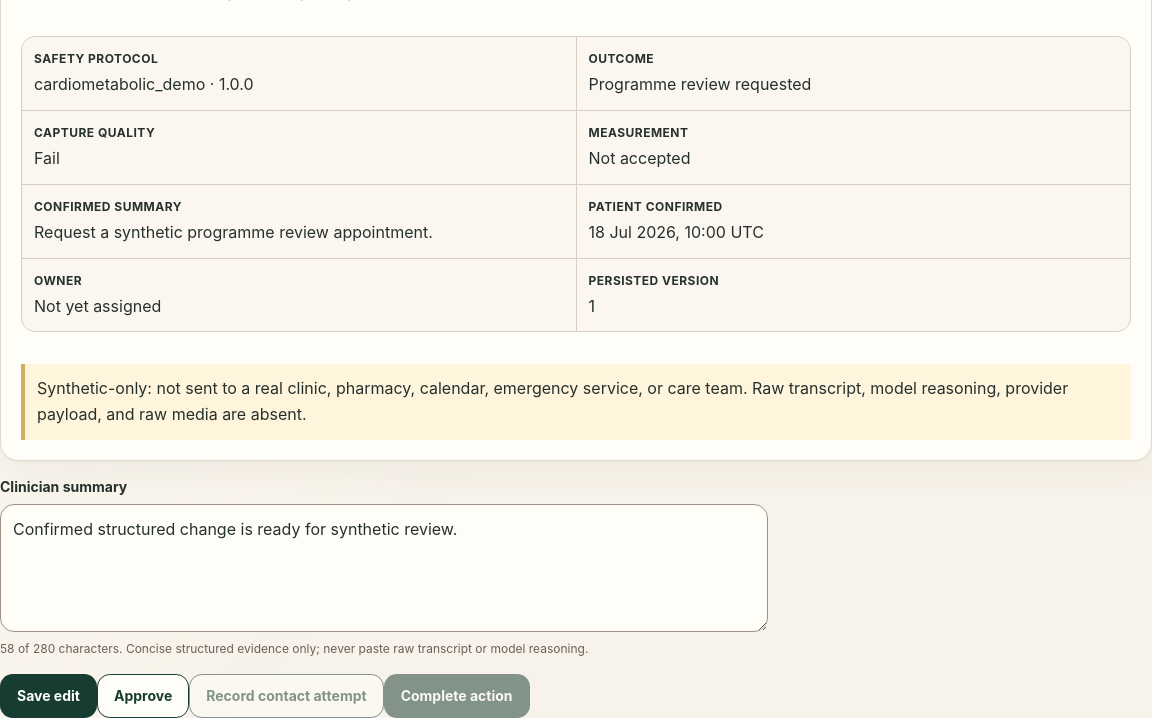
Test: clinician synthetic care action completion › restores the persisted view and requests reload after a stale write
(page scrolled)
Click the button "Approve": coordinates (143, 696) [97,674,189,717]
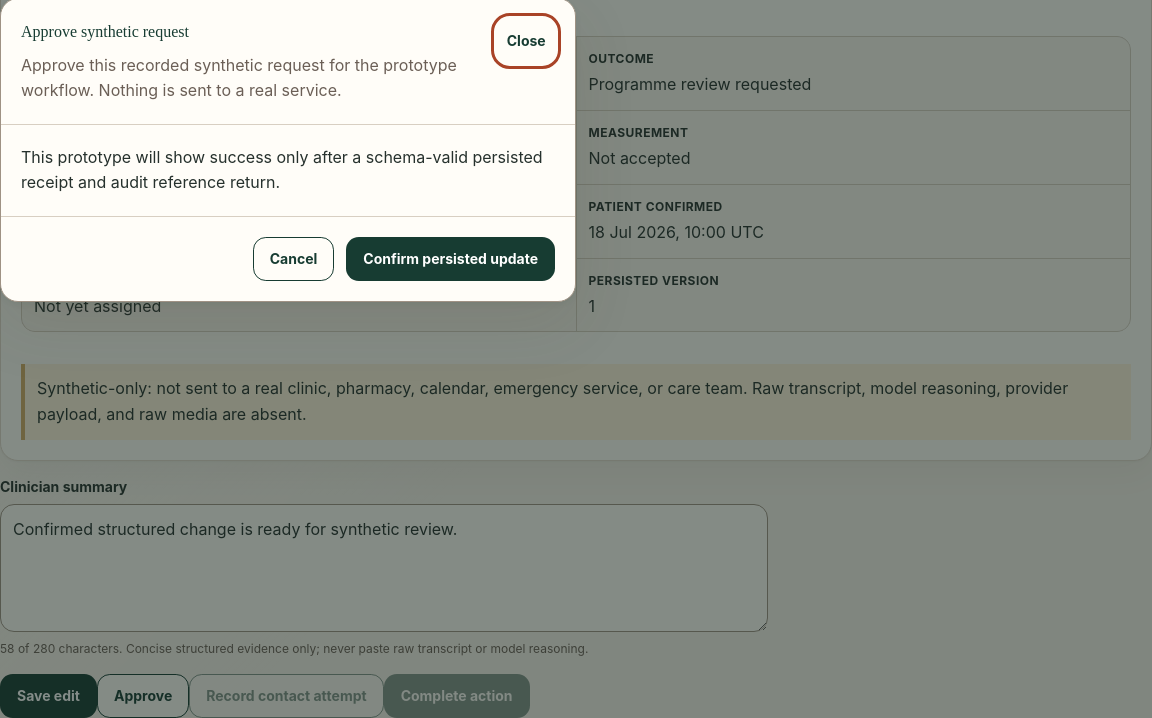
Click the button "Confirm persisted update": coordinates (451, 259) [346,237,555,281]
(page scrolled)
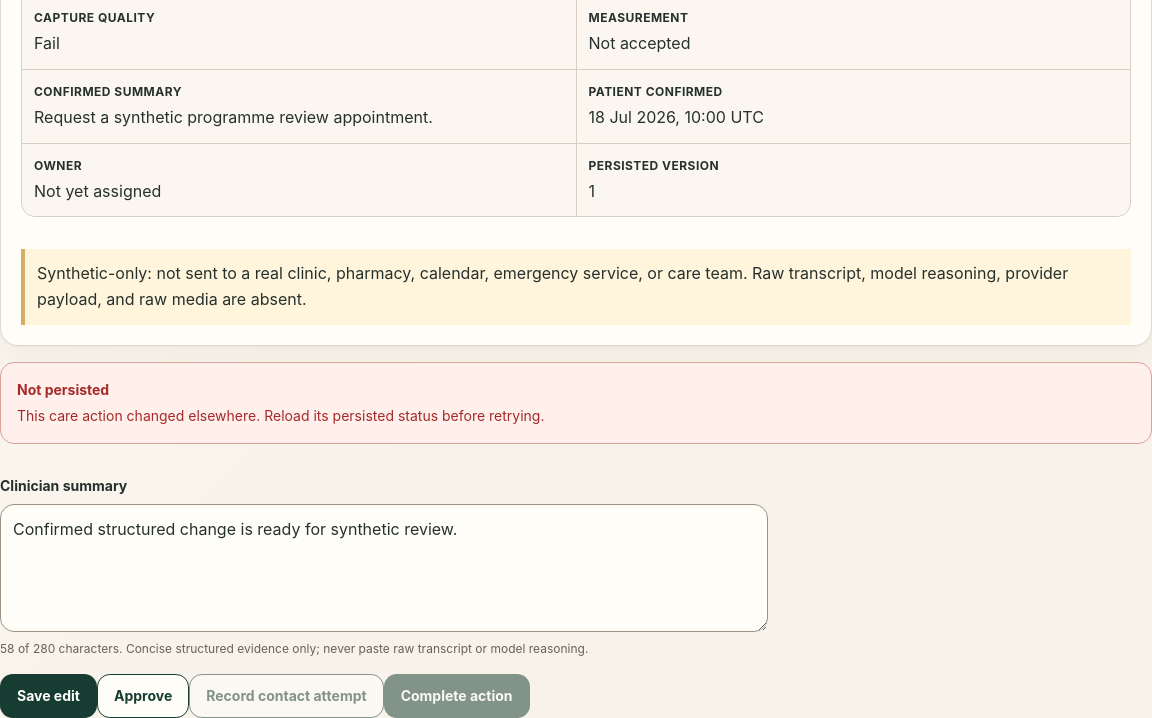
expect the button "Approve" is enabled: met, box [97,674,189,717]
expect the text "Not persisted" is shown: met, box [17,381,109,398]
